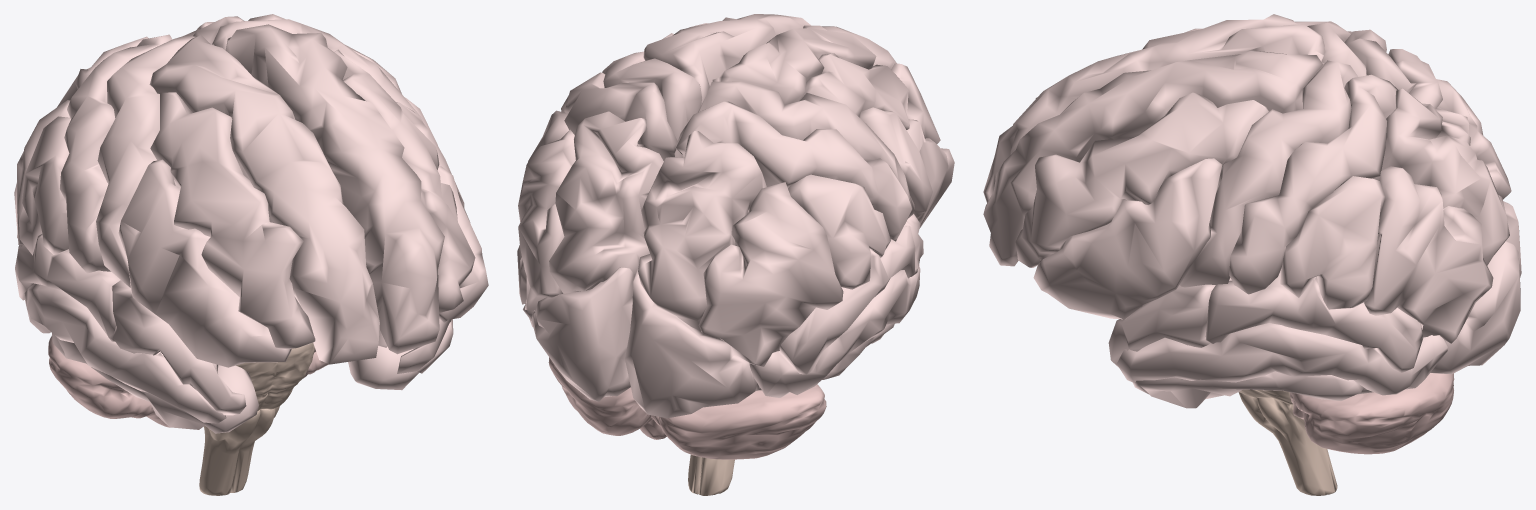
Rendered from brain.glb.
3 renders of one model, left to right at view 1: azimuth 30°, elevation 25°; view 2: azimuth 150°, elevation 25°; view 3: azimuth 270°, elevation 25°, orthographic. The views are drawn at different scales.
Visible parts, largest first — view 1: brain; view 2: brain; view 3: brain.
Part boxes in pixels (bbox=[...]): brain: bbox=[14, 14, 488, 495]; brain: bbox=[517, 14, 954, 495]; brain: bbox=[983, 14, 1521, 495].
Bounding box in the file's own units: 0.1326 × 0.1567 × 0.17.
